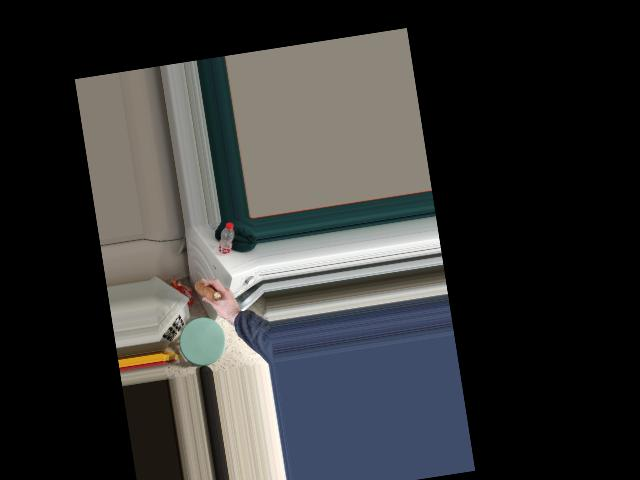sweet_potato: (194, 275, 224, 306)
